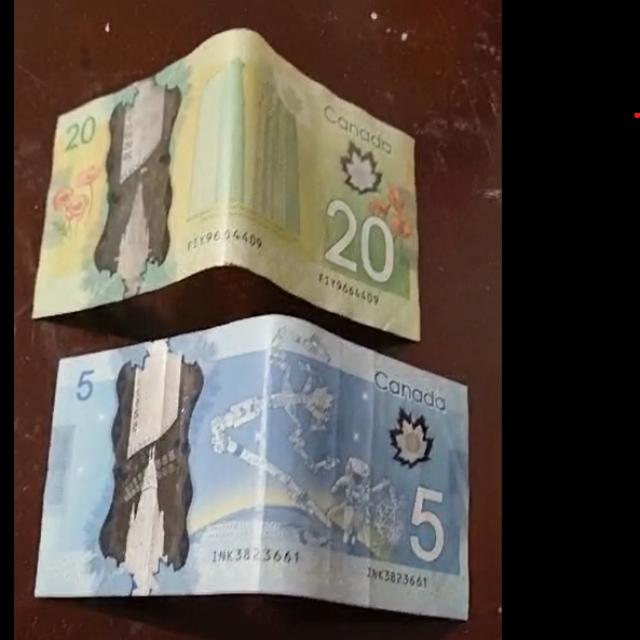20 cad: (43, 33, 434, 347)
5 cad: (36, 321, 476, 628)
